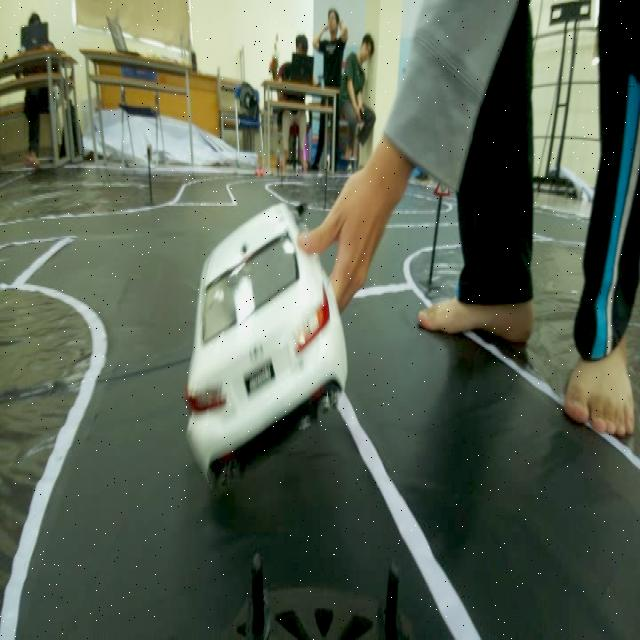car: (185, 210, 352, 459)
